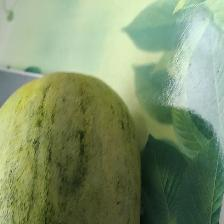gua: (29, 90, 127, 220)
